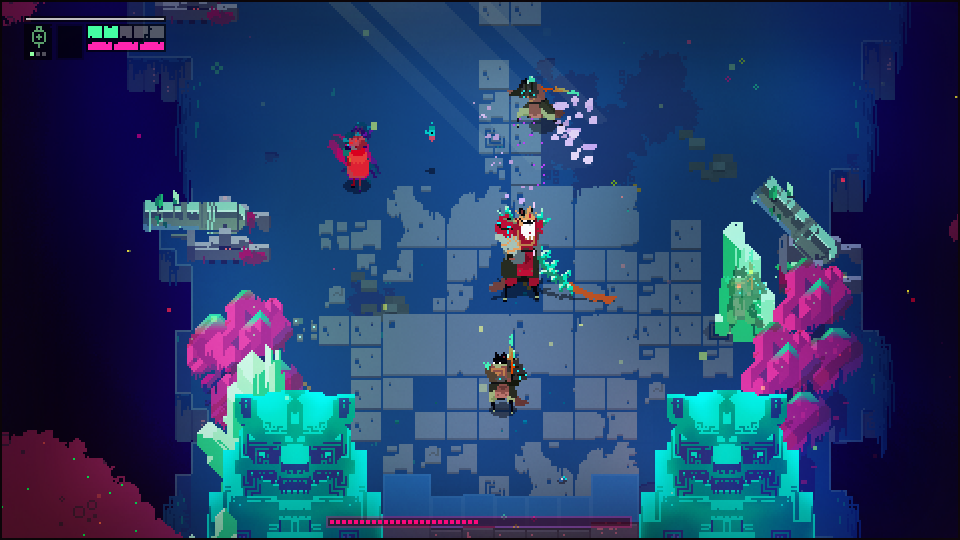hanged_man: (485, 202, 588, 303)
player: (346, 136, 373, 190)
